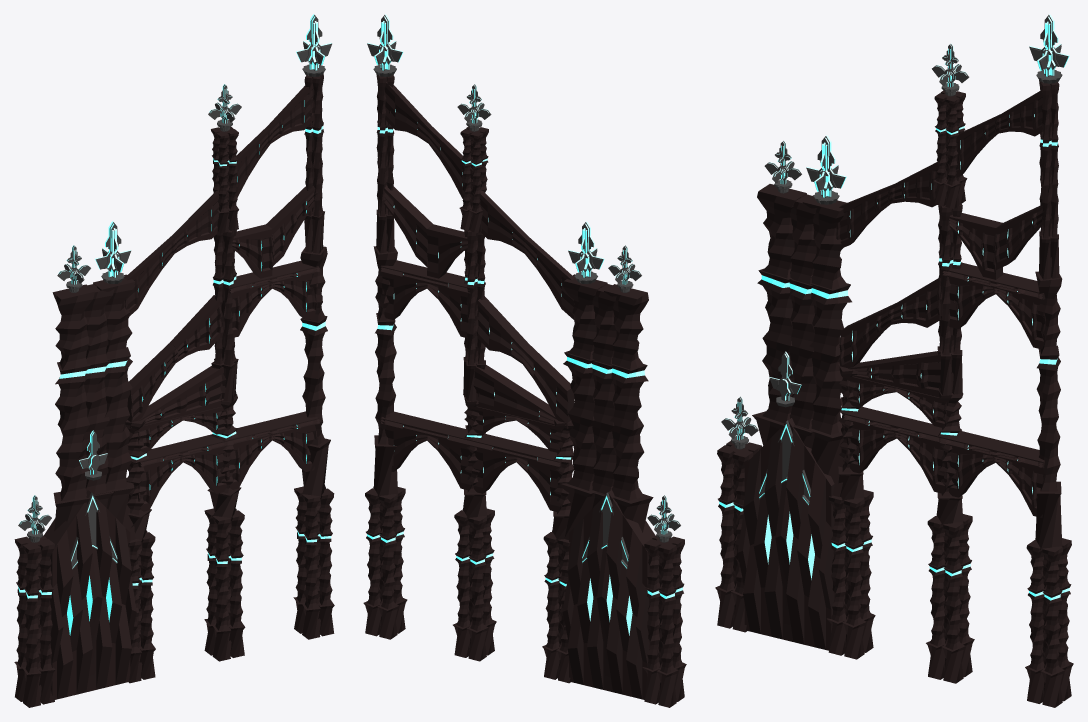
Rendered from Goth_2.glb.
3 views of the same model, side by side, from view 1: azimuth 30°, elevation 25°; view 2: azimuth 150°, elevation 25°; view 3: azimuth 330°, elevation 25° (orthographic). The views are drawn at different scales.
Visible parts, largest first — view 1: WallWithWindow.070, Pillar.275, Pillar.276, Pillar.252, Pillar.287, Barrier.230, Pillar.288, Pillar.289, Pillar.258, Pillar.253, Barrier.232, Barrier.231 (+39 smaller); view 2: WallWithWindow.071, Pillar.275, Pillar.276, Pillar.287, Pillar.252, Barrier.230, Pillar.290, Pillar.291, Pillar.255, Pillar.260, Barrier.231, Pillar.267 (+37 smaller); view 3: WallWithWindow.070, Pillar.276, Pillar.275, Pillar.252, Pillar.287, Barrier.230, Pillar.288, Pillar.259, Pillar.265, Pillar.254, Pillar.258, Pillar.253 (+41 smaller).
Part boxes in pixels (bbox=[...]): WallWithWindow.070: bbox=[50, 490, 136, 699]; Pillar.275: bbox=[52, 284, 94, 530]; Pillar.276: bbox=[93, 274, 135, 540]; Pillar.252: bbox=[300, 246, 330, 497]; Pillar.287: bbox=[84, 284, 114, 507]; Barrier.230: bbox=[138, 365, 226, 425]; Pillar.288: bbox=[23, 543, 41, 707]; Pillar.289: bbox=[38, 539, 55, 704]; Pillar.258: bbox=[212, 516, 231, 661]; Pillar.253: bbox=[301, 494, 320, 639]; Barrier.232: bbox=[169, 295, 221, 362]; Barrier.231: bbox=[127, 343, 176, 427]; WallWithWindow.071: bbox=[562, 490, 649, 699]; Pillar.275: bbox=[598, 284, 653, 532]; Pillar.276: bbox=[559, 274, 607, 539]; Pillar.287: bbox=[591, 284, 616, 508]; Pillar.252: bbox=[373, 246, 397, 497]; Barrier.230: bbox=[473, 365, 556, 425]; Pillar.290: bbox=[656, 543, 678, 707]; Pillar.291: bbox=[642, 539, 661, 704]; Pillar.255: bbox=[377, 494, 398, 639]; Pillar.260: bbox=[466, 516, 488, 661]; Barrier.231: bbox=[522, 344, 574, 428]; Pillar.267: bbox=[542, 532, 559, 679]; WallWithWindow.070: bbox=[737, 418, 834, 650]; Pillar.276: bbox=[797, 195, 851, 497]; Pillar.275: bbox=[752, 184, 806, 445]; Pillar.252: bbox=[1035, 271, 1062, 550]; Pillar.287: bbox=[788, 194, 816, 448]; Barrier.230: bbox=[848, 351, 940, 397]; Pillar.288: bbox=[715, 445, 735, 628]; Pillar.259: bbox=[941, 522, 965, 683]; Pillar.265: bbox=[842, 498, 866, 659]; Pillar.254: bbox=[1040, 546, 1064, 707]; Pillar.258: bbox=[926, 516, 945, 679]; Pillar.253: bbox=[1025, 540, 1044, 703].
Bounding box in the file's own units: 2808 × 5279 × 400.
